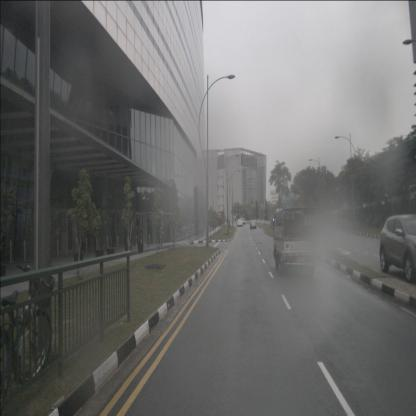vehicle-bicycle: (0, 263, 56, 413)
vehicle-car: (379, 214, 416, 284), (250, 219, 256, 230), (236, 219, 243, 227), (240, 218, 246, 224)
vehicle-truck: (273, 209, 319, 275)
